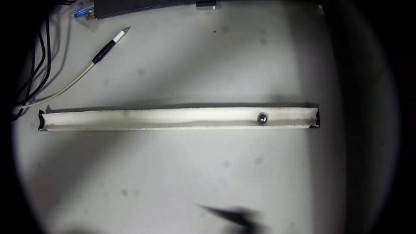gangzhu: (255, 110, 268, 123)
